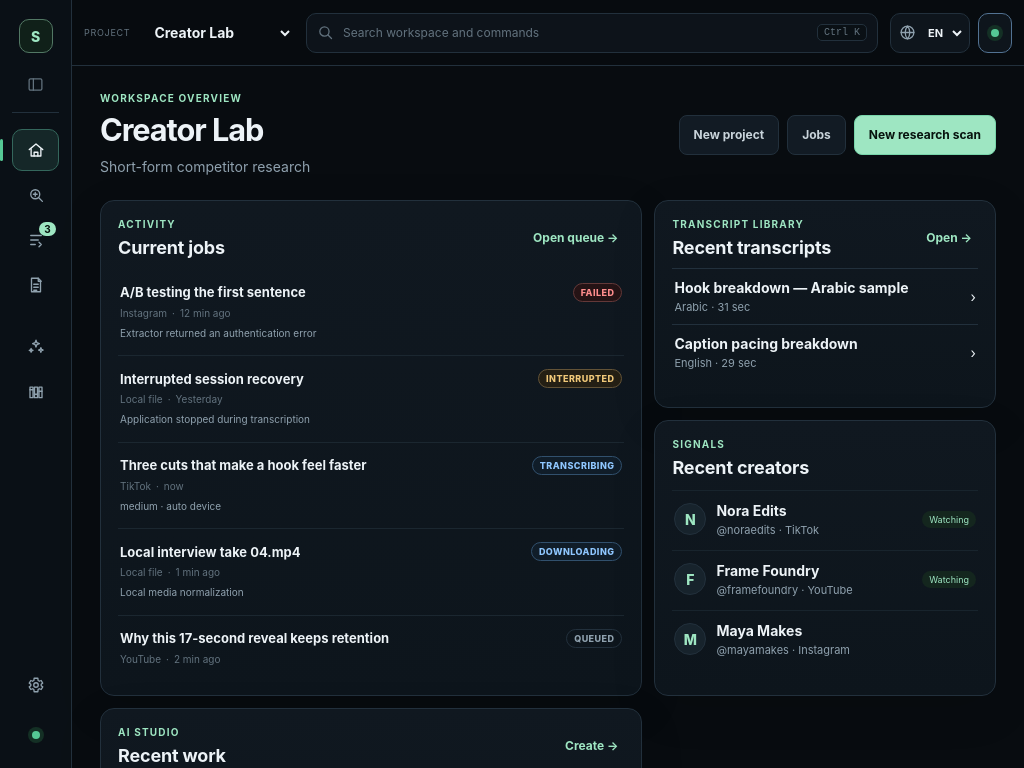
Scenario: desktop workstation › switches AI Studio between Copy Prompt and BYOK without persisting a key in UI state
Expected: the heading "Creator Lab" is shown, [100,111,263,148]
Click the button named "AI Studio": coordinates (36, 347) [12,326,59,368]
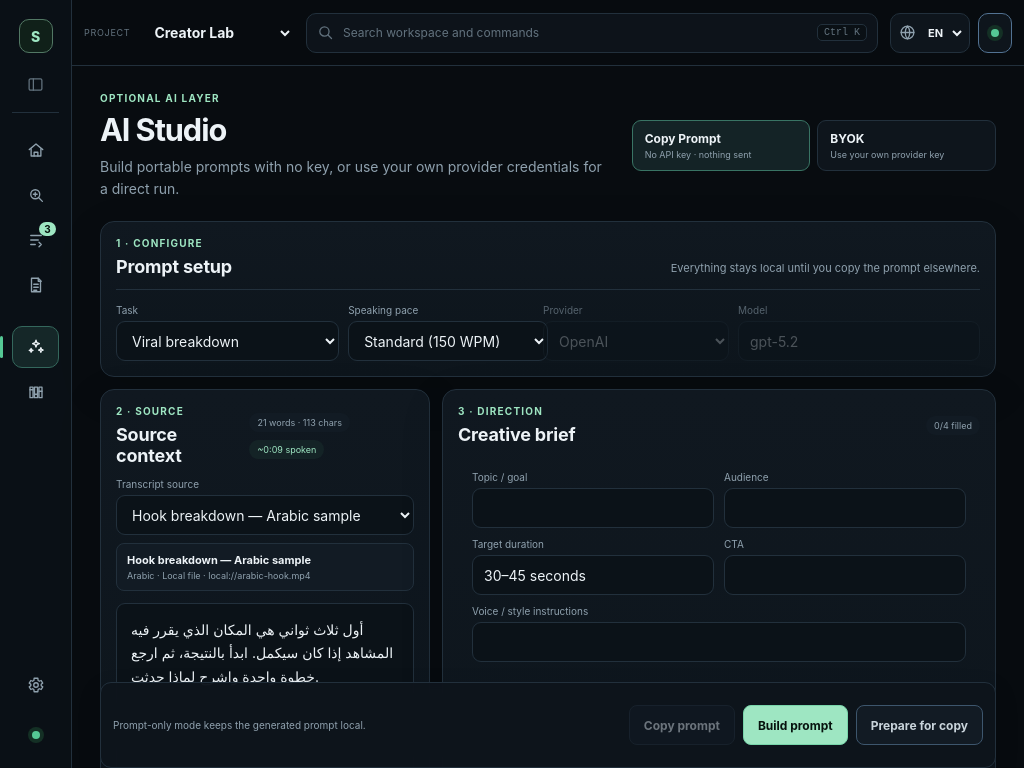
Click the button "BYOK Use your own provider key": coordinates (907, 146) [817,120,996,171]
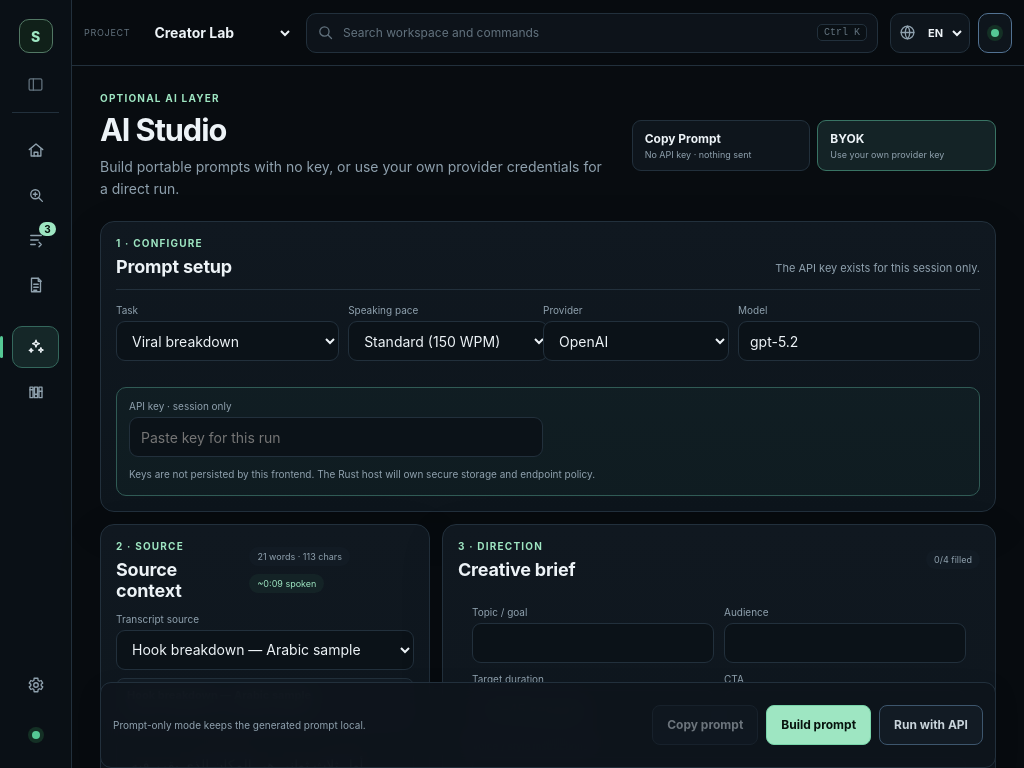
Result: the element with test id "byok-fields" is shown at [116,387,980,496]
